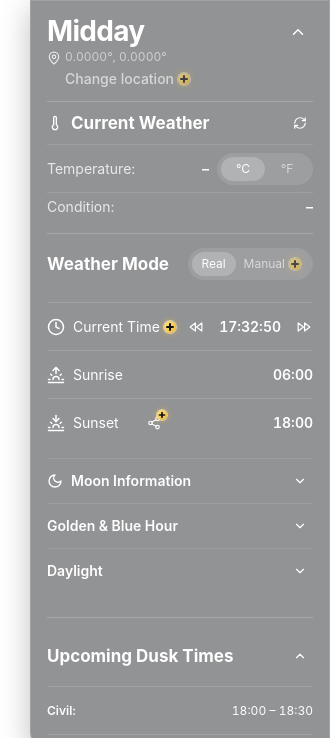
Test: InfoPanel › place-name search (ROADMAP 12) › ignores queries under 2 chars, debounces by 300ms, and selecting a result sets lat/lon/name
The image size is (330, 738).
Click the button "Change location". click: (128,79)
box: [65,69,190,89]
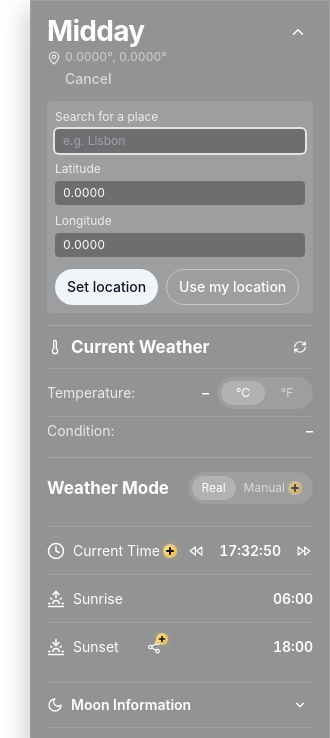
Type "F" into the dropdown labelled "Search for a place". click: (180,141)
box: [55,129,305,153]
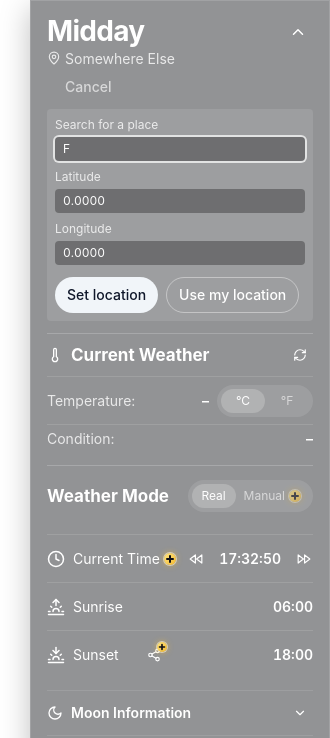
Replace the text in the dropdown labelled "Search for a place" with "Friedrichshafen". click: (180,149)
box: [55,137,305,161]
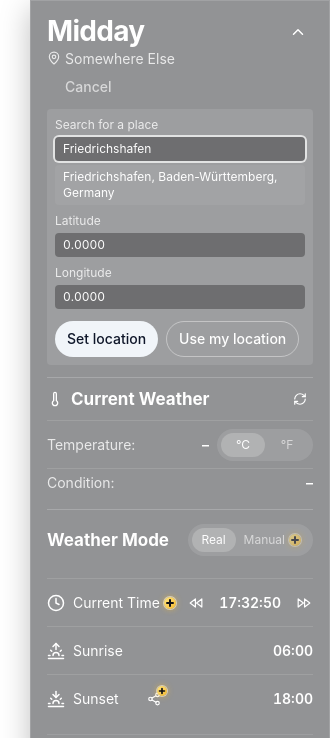
Click the option "Friedrichshafen, Baden-Württemberg, Germany". click: (180,185)
box: [55,165,305,205]
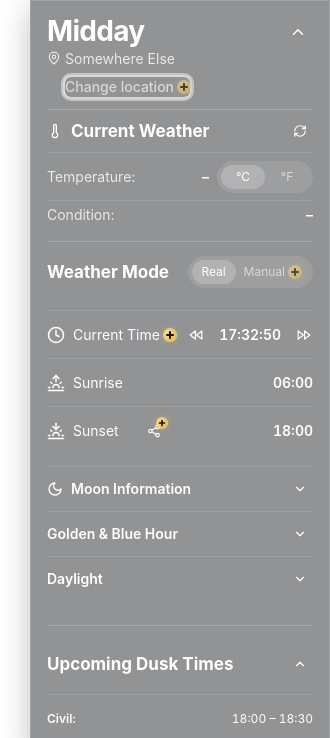
expect the label labelled "Search for a place" is gone: met
